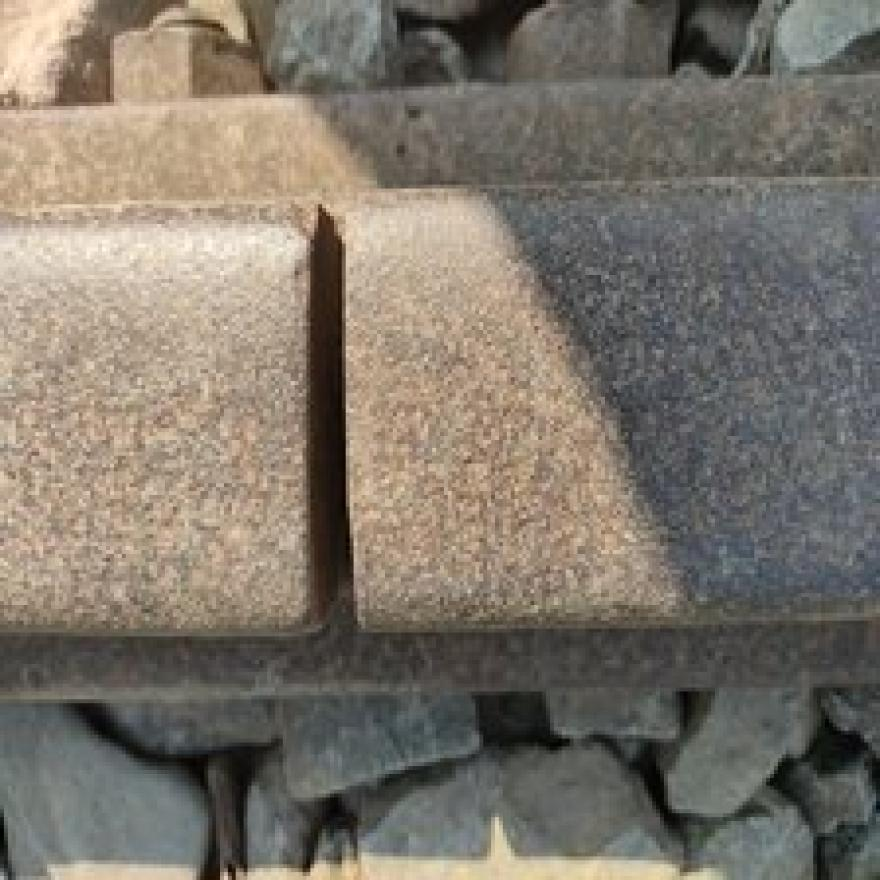railway-gap: (135, 187, 529, 656)
